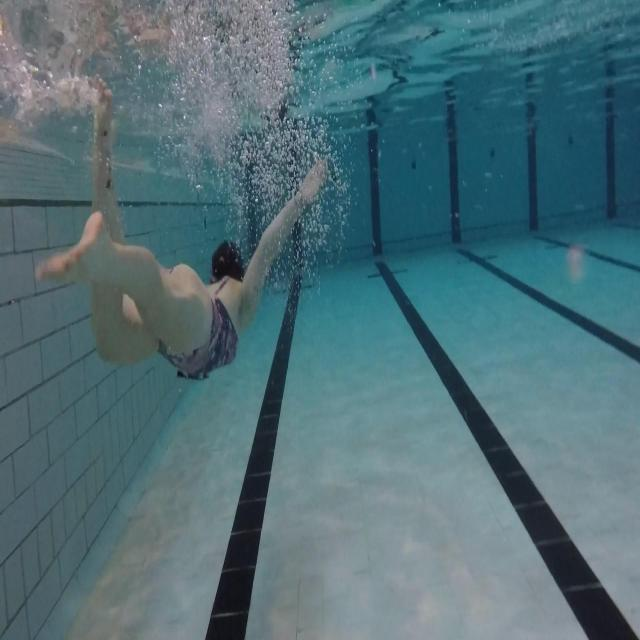human: (35, 72, 328, 382)
